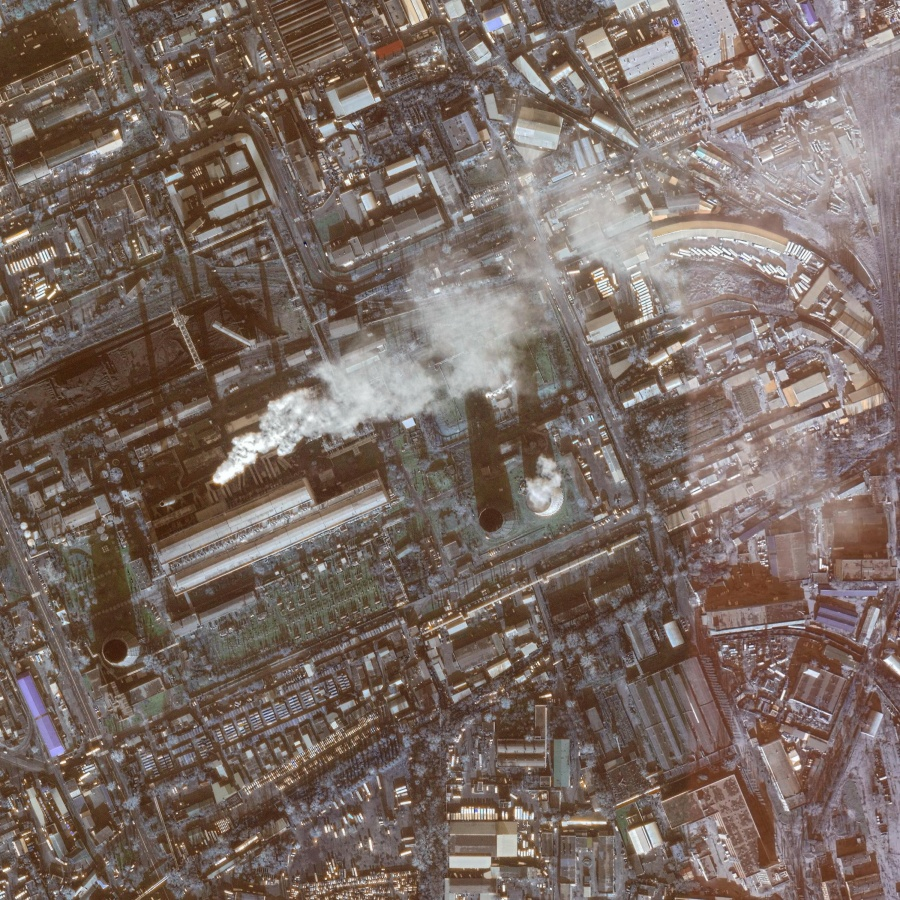PowerPlant: (73, 251, 698, 676)
